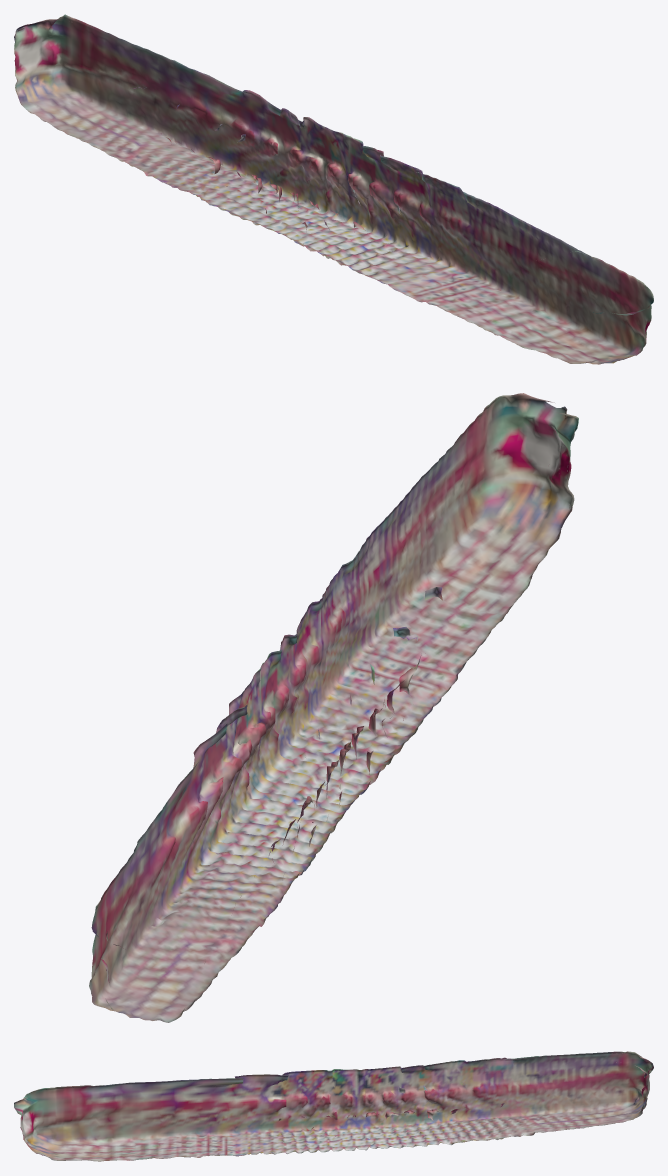
Rendered from collider.glb.
3 views of the same model, one above another, from view 1: azimuth 30°, elevation 25°; view 2: azimuth 150°, elevation 25°; view 3: azimuth 270°, elevation 25° (orthographic). The views are drawn at different scales.
Parts seen in each view (by area): view 1: world; view 2: world; view 3: world.
Boxes of the visible parts, bbox=[...] form: world: bbox=[14, 14, 653, 364]; world: bbox=[89, 393, 578, 1022]; world: bbox=[14, 1051, 653, 1161].
Size of the model in its own units: 19.9 by 9.3 by 78.39.
